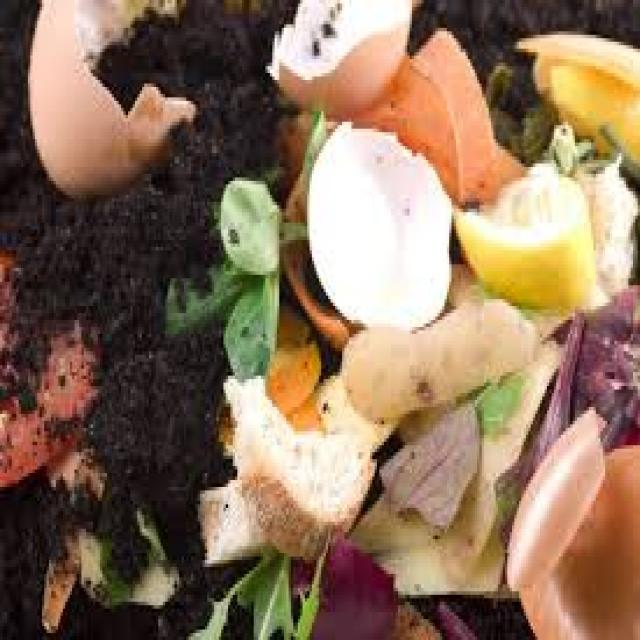Wet: (0, 0, 640, 640), (216, 0, 639, 424), (0, 233, 177, 640), (16, 0, 210, 210)
